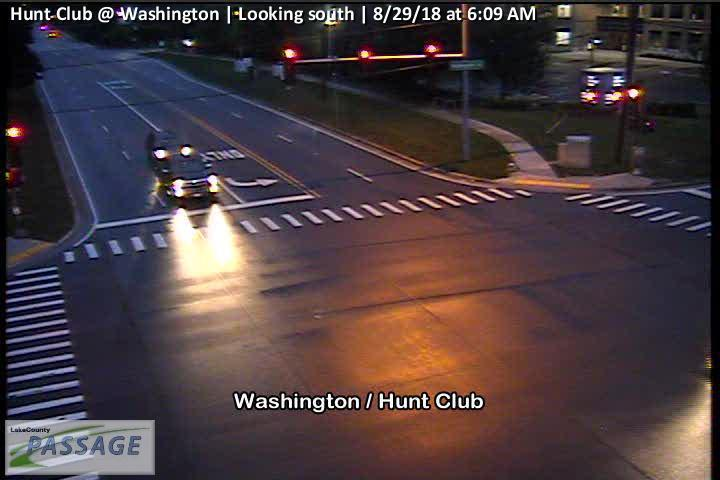Sedan: (162, 156, 214, 202)
